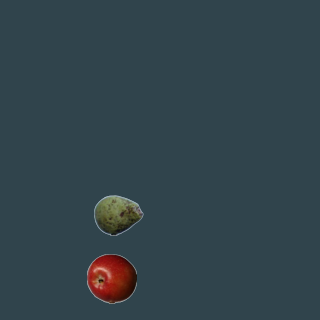Apple Braeburn: (86, 253, 136, 303)
Pear Stone: (93, 190, 143, 240)
